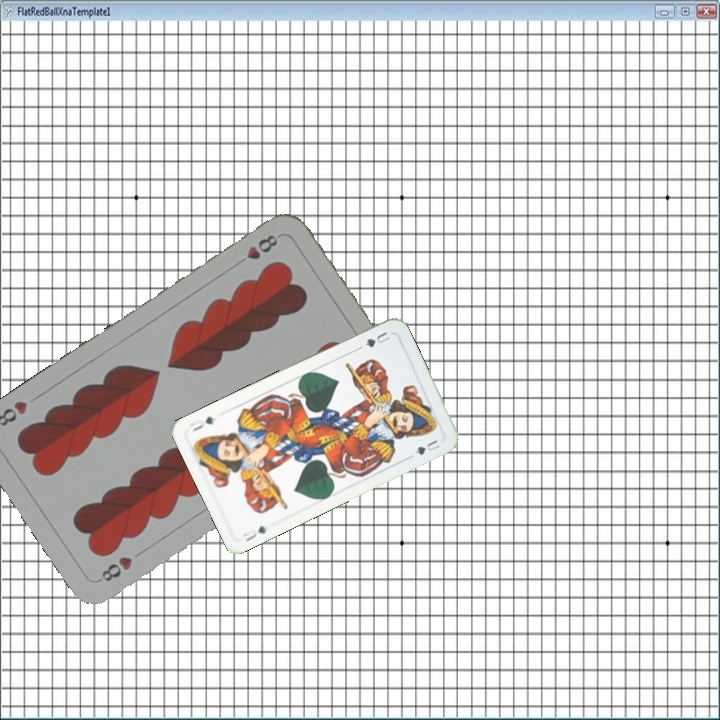GU: (361, 327, 392, 350), (238, 522, 270, 544)
H8: (231, 230, 280, 269), (94, 552, 135, 585)
